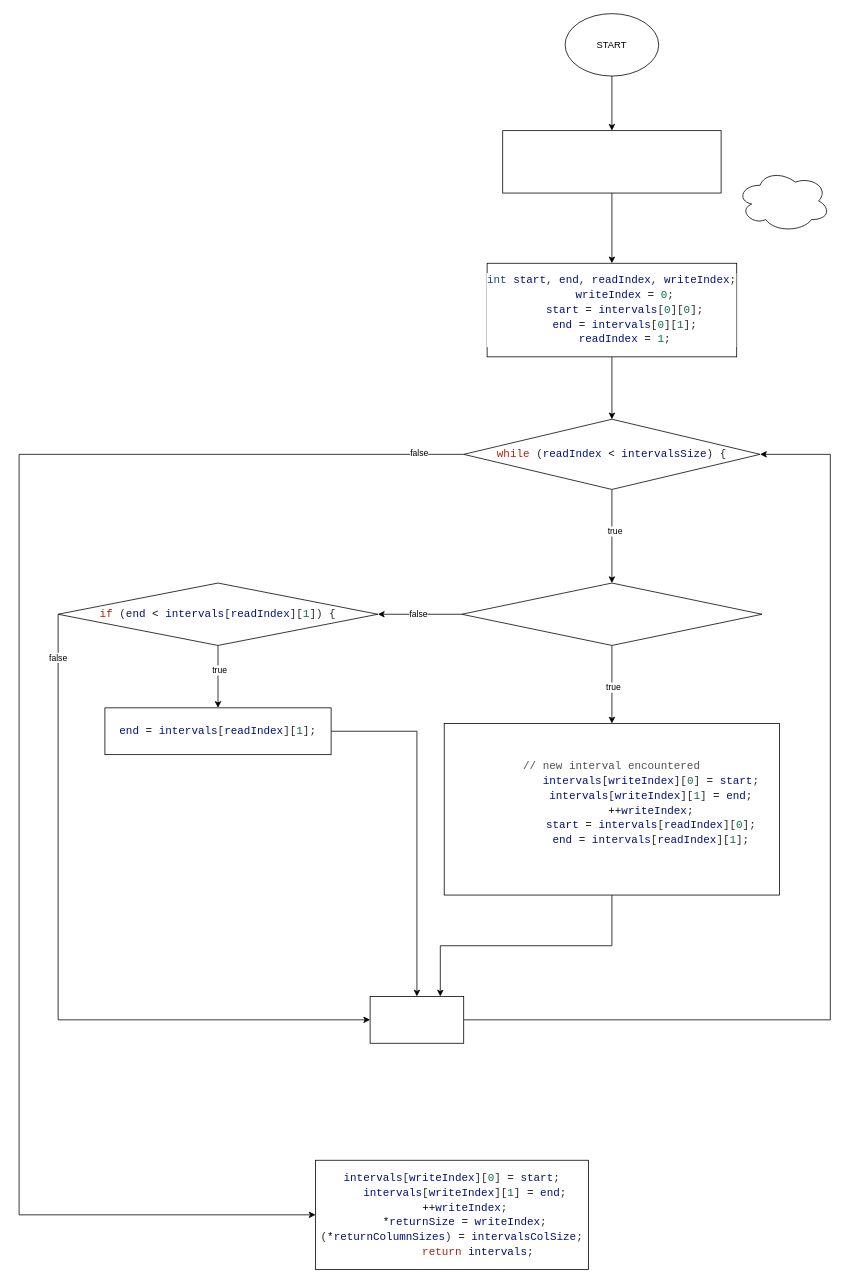
This 850x1283 diagram has some shape labels left out. Here are the shapes that lost their labels. From the top down, the box of each, then its label:
(502, 130, 721, 193): sort ( intervals , intervalsSize );
(461, 582, 762, 645): if ( end < intervals [ readIndex ][ 0 ]) {
(369, 996, 464, 1043): ++ readIndex ;
